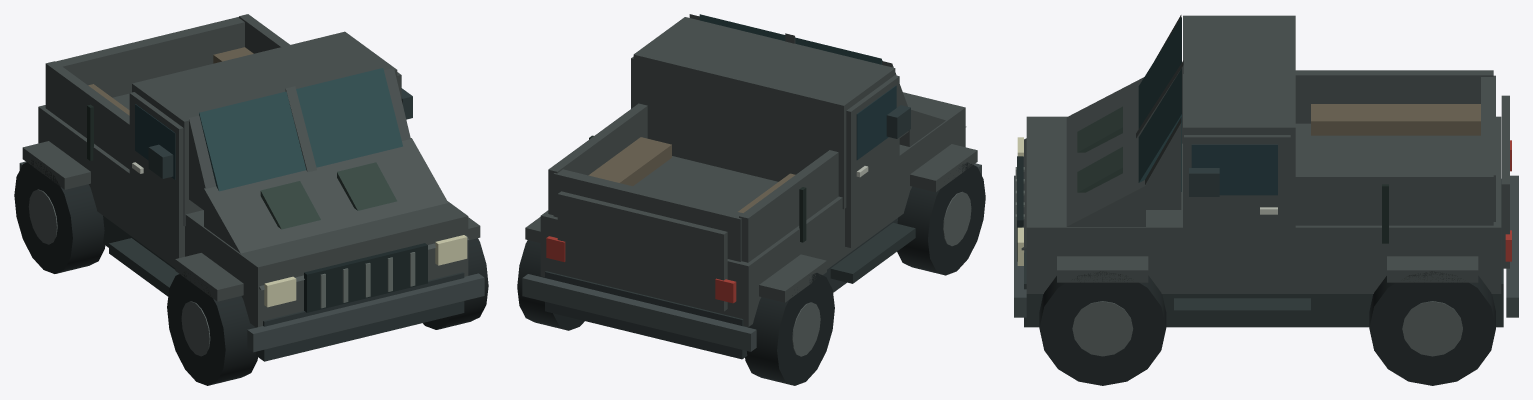
File: CMU3DReduxVehicleHumveeTransport.glb
The picture shows the model from 3 angles, left to right: view 1: azimuth 30°, elevation 25°; view 2: azimuth 150°, elevation 25°; view 3: azimuth 270°, elevation 25°; orthographic projection. The views are drawn at different scales.
Visible parts, largest first — view 1: armored lower body, windshield glazing, rubber road tire (×3), sloped engine hood, cab armored bulkhead, tailgate, cab door skin, bumper, cargo side wall (×2), front grille, sealed chassis, wheel fender (×2) (+8 smaller); view 2: cab armored bulkhead, armored lower body, rear access panel, rubber road tire (×3), cargo side wall (×2), bumper, cab door skin, tailgate, sealed chassis, wheel fender (×2), recessed metal wheel hub (×2), running board (+7 smaller); view 3: armored lower body, rubber road tire (×2), cargo side wall (×2), cab armored bulkhead, cab door skin, sloped engine hood, troop bench, recessed metal wheel hub (×2), sealed chassis, wheel fender (×2), windshield glazing, side window (+9 smaller).
Boxes of the visible parts, left/top/right/bottom form: armored lower body: left=38, top=93, right=468, bottom=327; windshield glazing: left=199, top=68, right=402, bottom=191; rubber road tire (×3): left=14, top=160, right=488, bottom=385; sloped engine hood: left=204, top=138, right=468, bottom=290; cab armored bulkhead: left=132, top=31, right=397, bottom=226; tailgate: left=55, top=17, right=244, bottom=97; cab door skin: left=129, top=92, right=184, bottom=263; bumper: left=247, top=273, right=484, bottom=352; cargo side wall (×2): left=45, top=14, right=289, bottom=169; front grille: left=304, top=243, right=427, bottom=312; sealed chassis: left=103, top=216, right=464, bottom=361; wheel fender (×2): left=22, top=141, right=243, bottom=301; cab armored bulkhead: left=633, top=17, right=895, bottom=209; armored lower body: left=540, top=92, right=965, bottom=326; rear access panel: left=557, top=191, right=727, bottom=311; rubber road tire (×3): left=517, top=162, right=985, bottom=385; cargo side wall (×2): left=548, top=103, right=838, bottom=262; bumper: left=522, top=274, right=756, bottom=351; cab door skin: left=845, top=75, right=899, bottom=247; tailgate: left=553, top=169, right=742, bottom=261; sealed chassis: left=545, top=218, right=897, bottom=359; wheel fender (×2): left=759, top=144, right=977, bottom=302; recessed metal wheel hub (×2): left=792, top=191, right=971, bottom=356; running board: left=830, top=223, right=915, bottom=283; armored lower body: left=1026, top=116, right=1501, bottom=293; rubber road tire (×2): left=1039, top=271, right=1495, bottom=385; cargo side wall (×2): left=1295, top=70, right=1493, bottom=225; cab armored bulkhead: left=1183, top=15, right=1295, bottom=240; cab door skin: left=1184, top=135, right=1290, bottom=286; sloped engine hood: left=1021, top=77, right=1145, bottom=250; troop bench: left=1311, top=104, right=1480, bottom=135; recessed metal wheel hub (×2): left=1072, top=301, right=1462, bottom=356; sealed chassis: left=1024, top=179, right=1503, bottom=327; wheel fender (×2): left=1057, top=256, right=1478, bottom=282; windshield glazing: left=1138, top=17, right=1181, bottom=191; side window: left=1191, top=144, right=1277, bottom=195.
Bounding box in the file's own units: 1.67 × 1.42 × 2.55.
